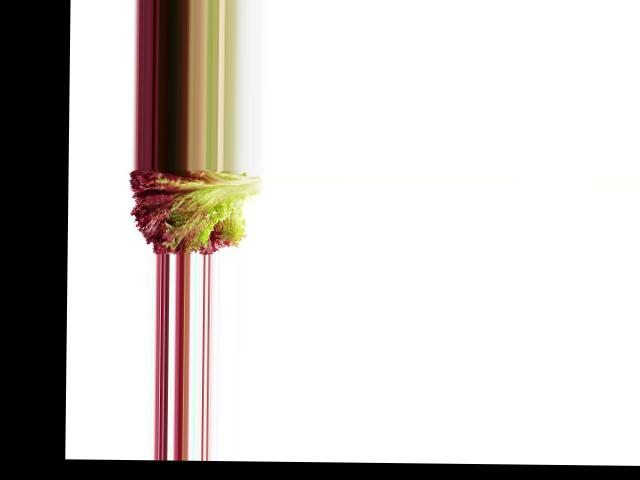lettuce: (121, 169, 265, 253)
